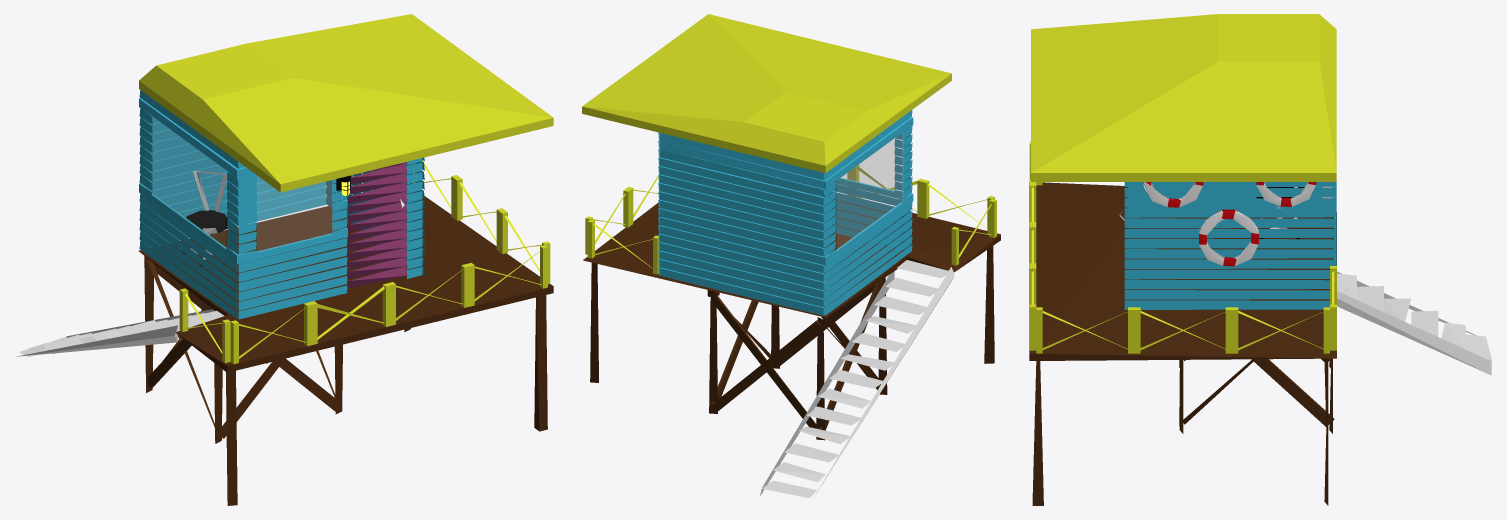
Rendered from Lifeguard Shack.glb.
3 renders of one model, left to right at view 1: azimuth 30°, elevation 25°; view 2: azimuth 150°, elevation 25°; view 3: azimuth 270°, elevation 25°, orthographic. The views are drawn at different scales.
Visible parts, largest first — view 1: Walls & Roof, Supports, Door, Fences, Stairs, Chair; view 2: Walls & Roof, Supports, Stairs, Fences; view 3: Walls & Roof, Supports, Stairs, Fences, Life Preserver.002, Life Preserver, Life Preserver.001.
Boxes of the visible parts, x1,y1,x2,y2 form: Walls & Roof: (139, 14, 553, 319); Supports: (138, 192, 553, 505); Door: (347, 162, 407, 288); Fences: (179, 160, 550, 363); Stairs: (17, 309, 224, 356); Chair: (182, 171, 230, 266); Walls & Roof: (582, 14, 951, 315); Supports: (583, 180, 1000, 440); Stairs: (760, 260, 954, 501); Fences: (585, 164, 996, 274); Walls & Roof: (1031, 14, 1336, 309); Supports: (1029, 182, 1336, 505); Stairs: (1337, 271, 1492, 375); Fences: (1029, 141, 1336, 353); Life Preserver.002: (1199, 209, 1258, 266); Life Preserver: (1143, 182, 1203, 207); Life Preserver.001: (1256, 182, 1316, 206).
Size of what is drawn, in the model's own units: 5.03 by 4.96 by 5.71.
